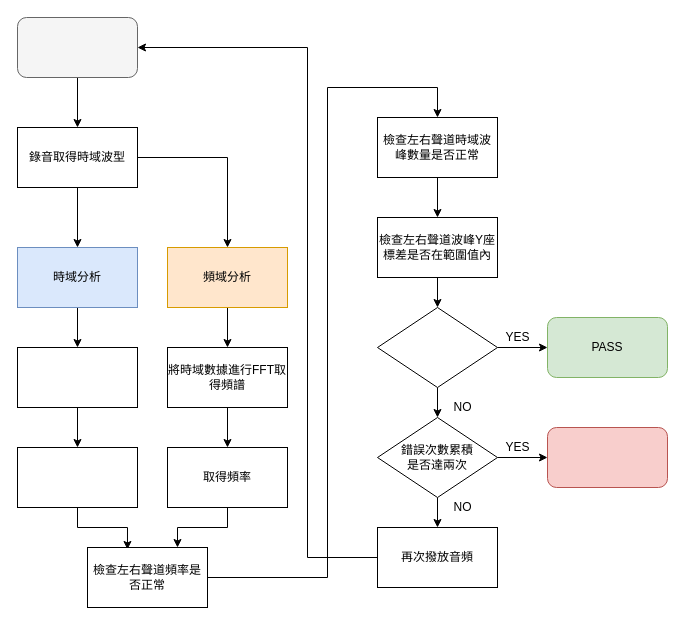
The diagram is 685 pixels wide and 625 high, and some of its shapes have lost their labels. Here are the shapes that lost their labels. From the top down, the centre of each, then its label:
[77,47]: 分析收錄音頻
[437,347]: 判斷以上取得 數據是否正常
[77,377]: 取得時域數據並畫出時域波型
[77,477]: 取得波峰數量 波峰Y座標 波峰Vrms
[607,457]: FAIL
